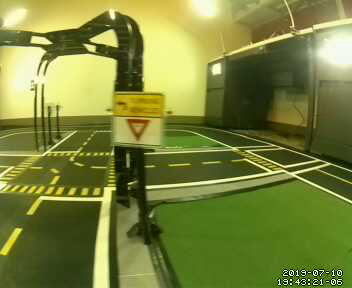Turn Yield: (110, 89, 165, 151)
